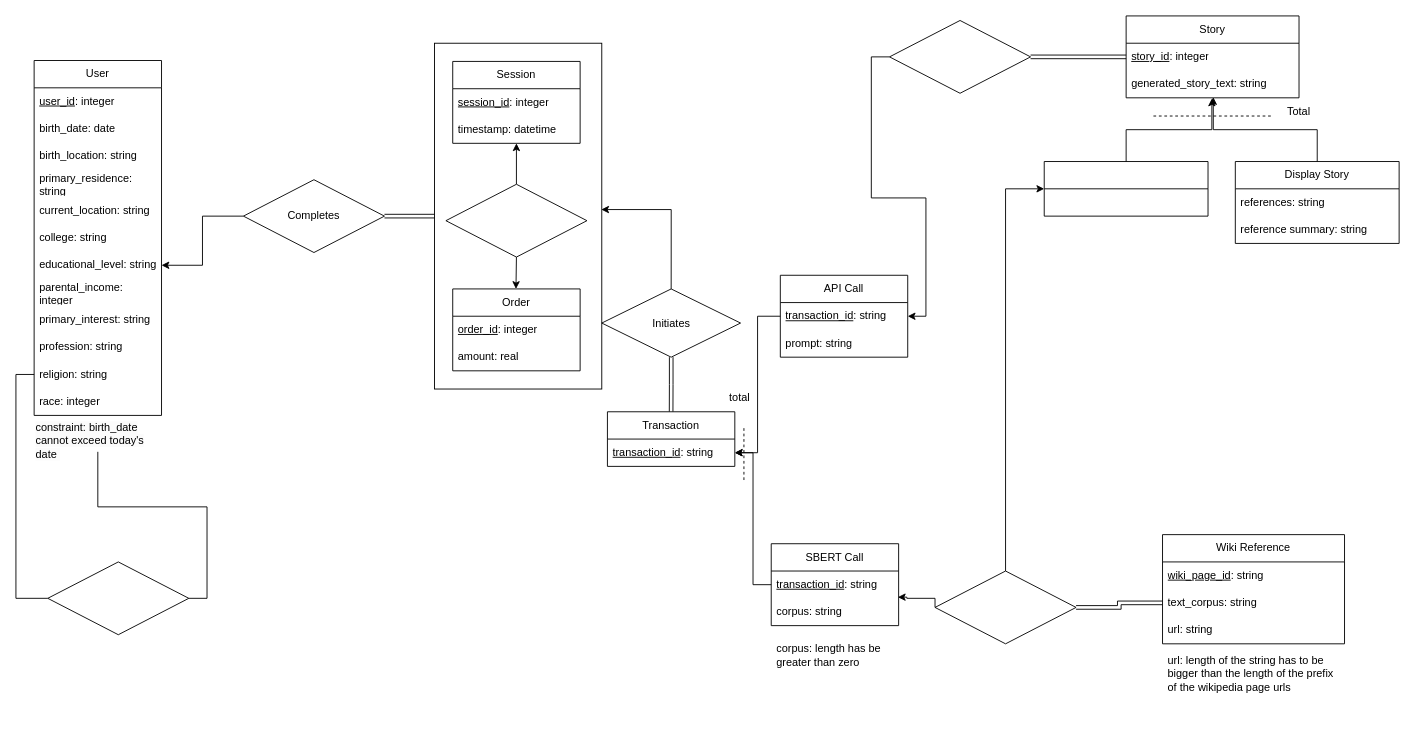
This 1415x746 diagram has some shape labels left out. The shapes that lost their labels are listed below. From the top down, each one's centre as x and y in pixels, then its label:
the point at 960,56: Generates
the point at 1125,188: Temp Story
the point at 516,220: Paid_by
the point at 118,598: establishes
the point at 1005,607: identifies
